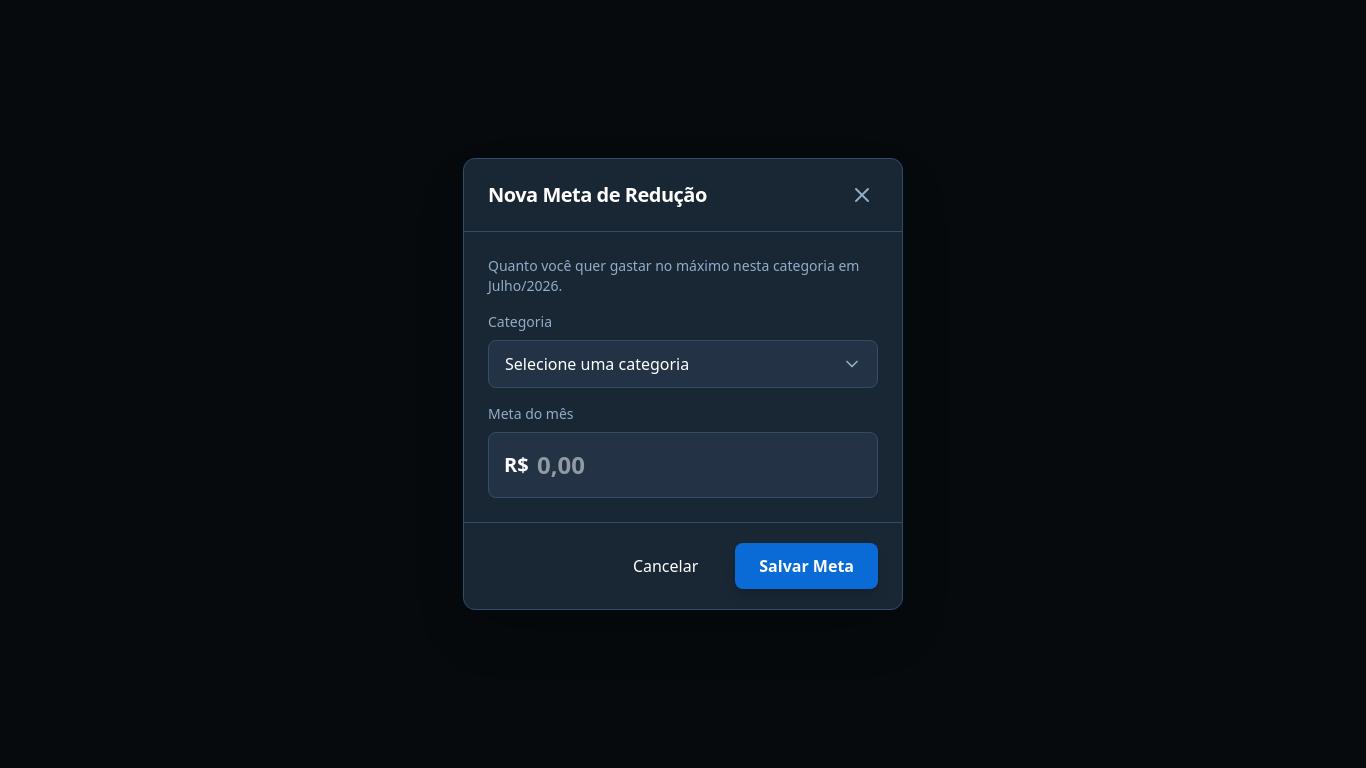
Test: ReductionGoalModal › Create_GoalAlreadyExists_ShowsPtBrMessage
Select "Mercado" in the dropdown labelled "Categoria": (683, 364) x1=488 y1=340 x2=878 y2=388
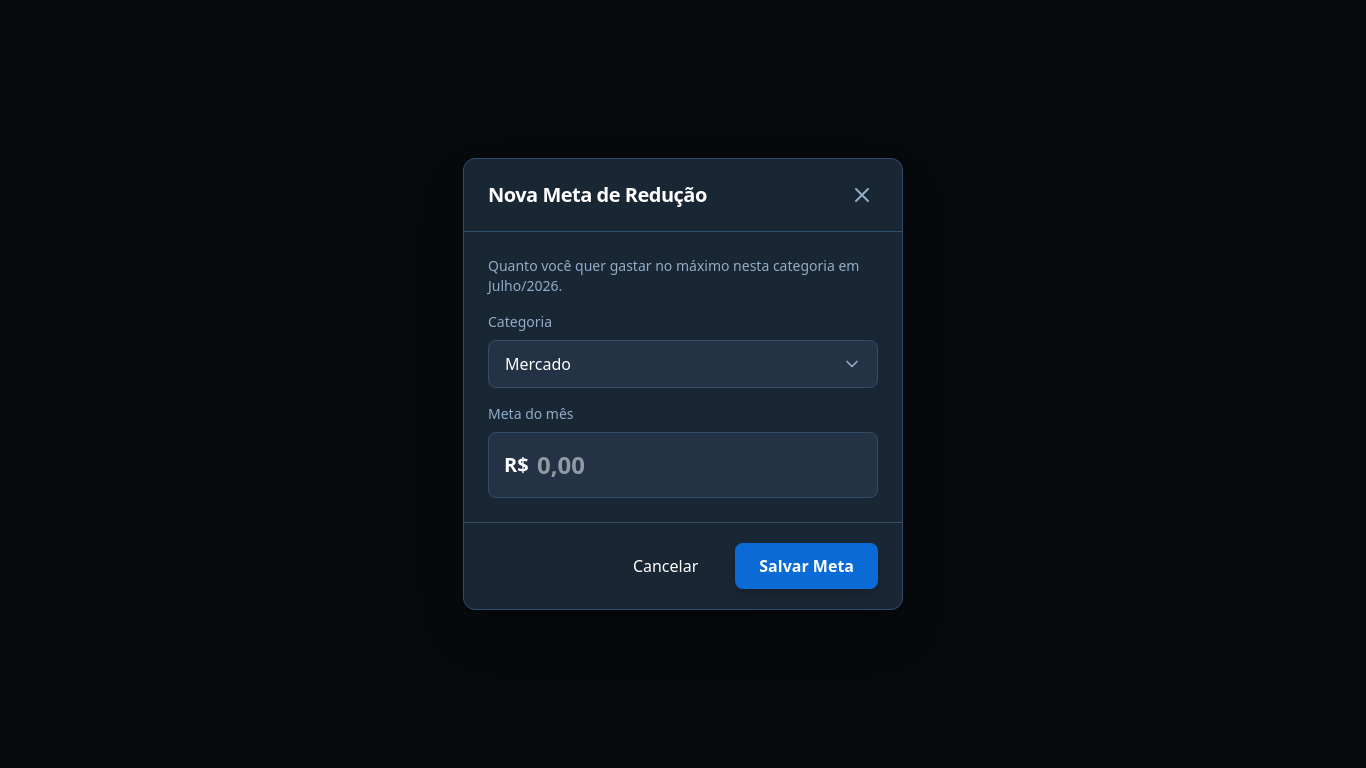
In the field with placeholder "0,00": (683, 465) x1=488 y1=432 x2=878 y2=498, type "400"
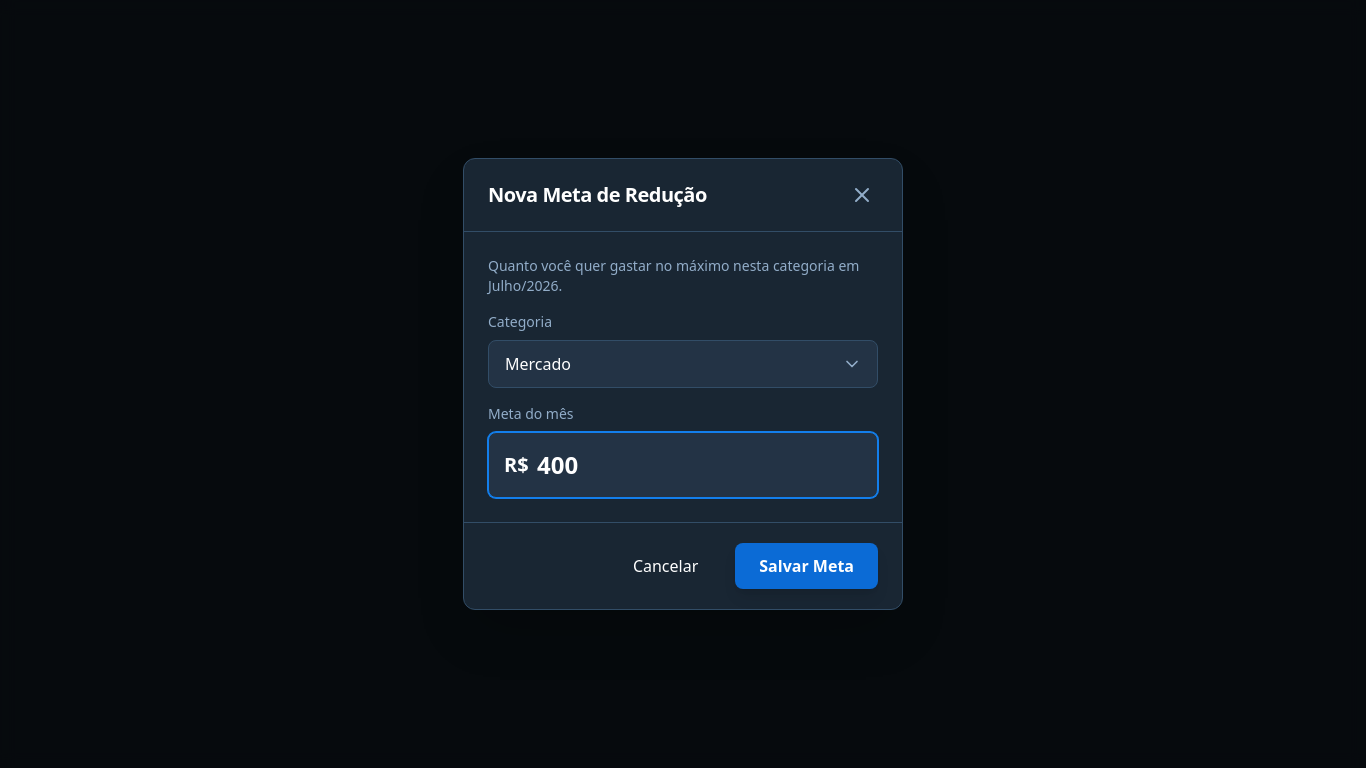
Click the button "Salvar Meta": (807, 566) x1=735 y1=543 x2=878 y2=589
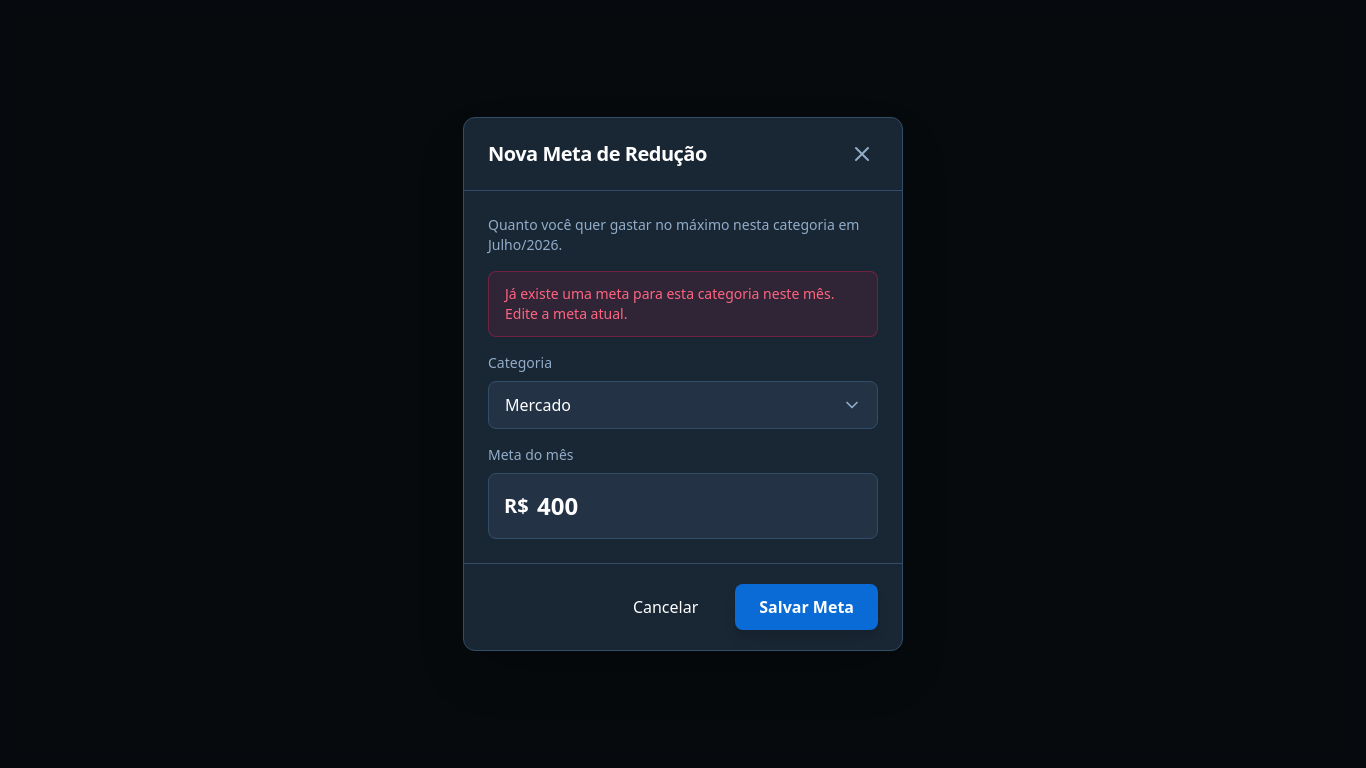
Check: the text "Já existe uma meta para esta categoria neste mês. Edite a meta atual." is shown, box x1=505 y1=284 x2=861 y2=324
